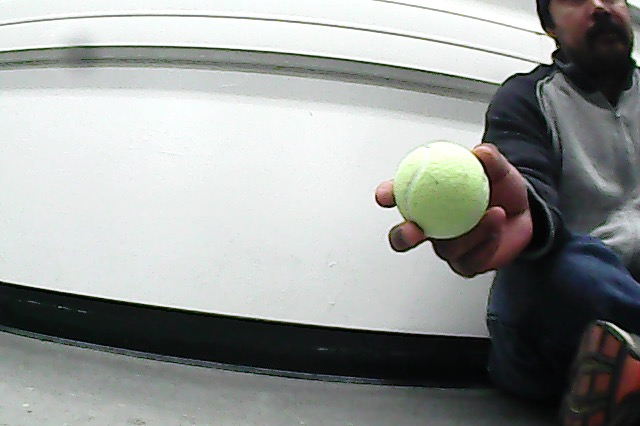ball: (391, 138, 493, 242)
